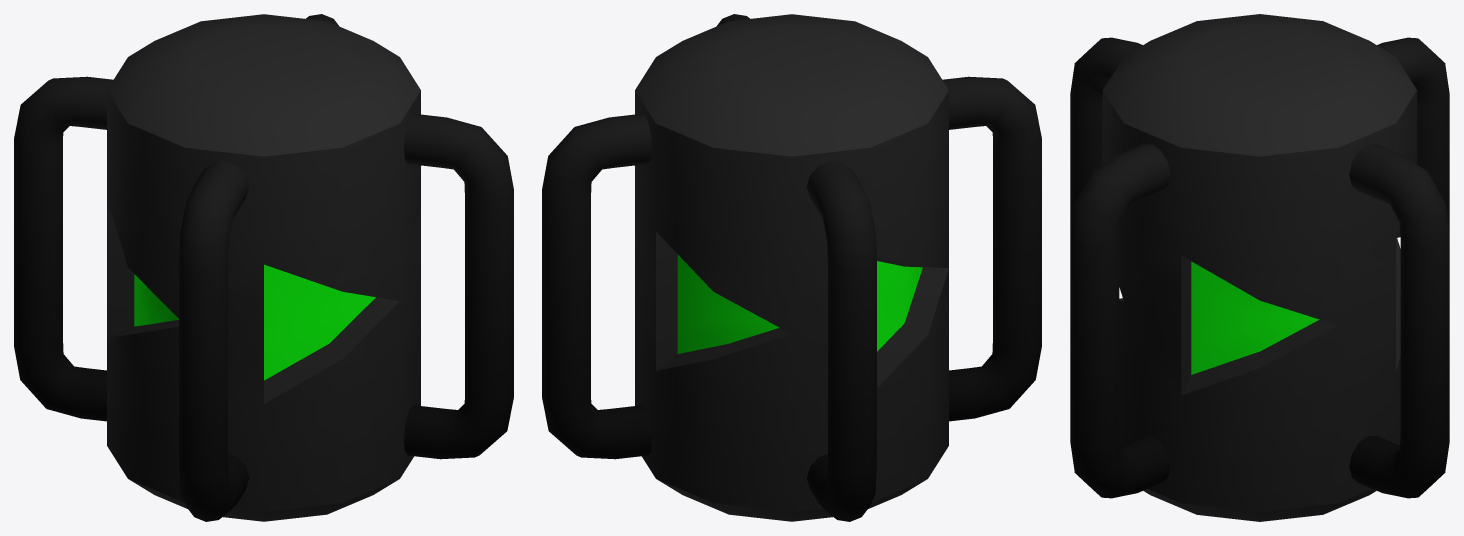
File: Msh_Motor.FBX
3 views of the same model, side by side, from view 1: azimuth 30°, elevation 25°; view 2: azimuth 150°, elevation 25°; view 3: azimuth 270°, elevation 25° (orthographic).
Parts seen in each view (by area): view 1: Msh_MotorNEw; view 2: Msh_MotorNEw; view 3: Msh_MotorNEw.
Boxes of the visible parts, x1=… form: Msh_MotorNEw: x1=14, y1=14, x2=513, y2=521; Msh_MotorNEw: x1=542, y1=14, x2=1041, y2=521; Msh_MotorNEw: x1=1070, y1=14, x2=1449, y2=521.
Size of the model in its own units: 7.57 by 7.57 by 9.3.
